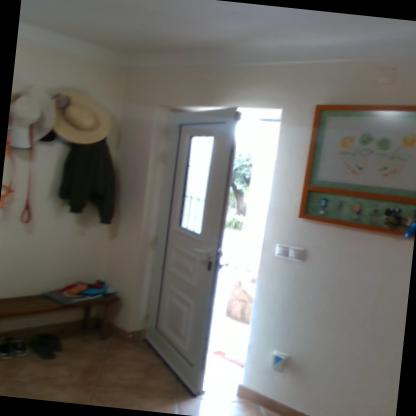semi: (126, 92, 294, 400)
